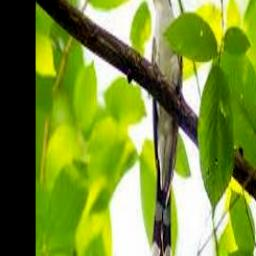Cuckoo: (137, 0, 182, 256)
